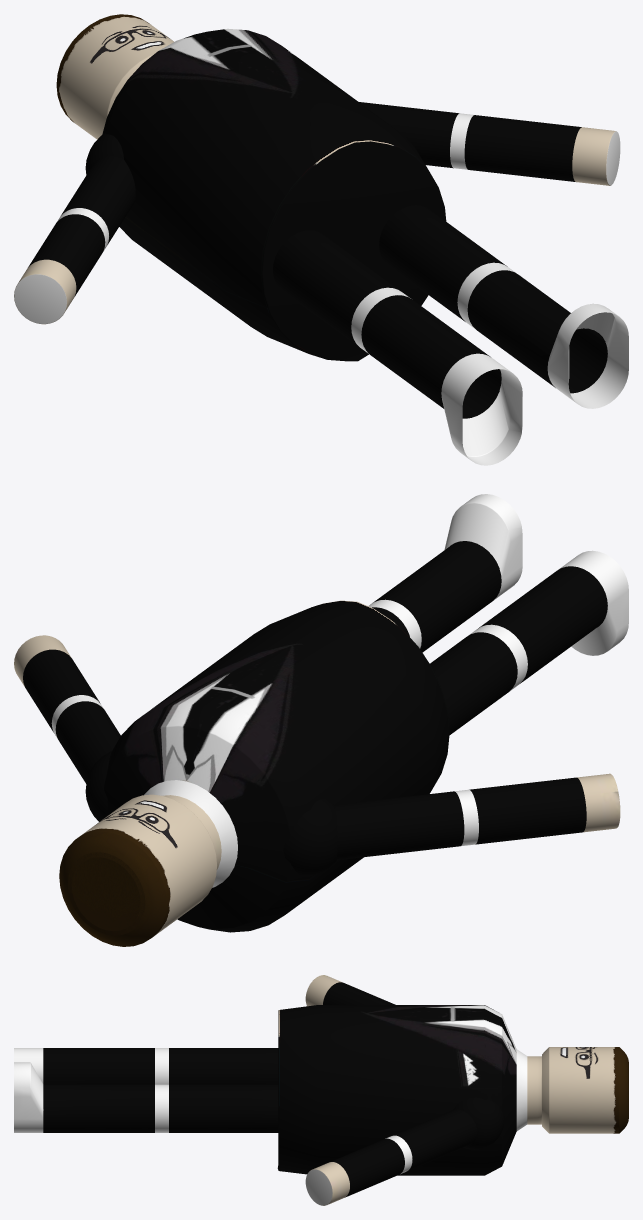
Rendered from Character Final.fbx.
The picture shows the model from 3 angles, top to bottom: view 1: azimuth 30°, elevation 25°; view 2: azimuth 150°, elevation 25°; view 3: azimuth 270°, elevation 25°; orthographic projection. The views are drawn at different scales.
Visible parts, largest first — view 1: John Doe; view 2: John Doe; view 3: John Doe.
Boxes of the visible parts, x1,y1,x2,y2 form: John Doe: [14, 14, 628, 465]; John Doe: [14, 494, 628, 946]; John Doe: [14, 975, 628, 1205].
Size of the model in its own units: 150 by 52.45 by 189.
